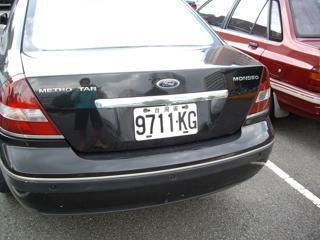plate: (132, 104, 198, 138)
